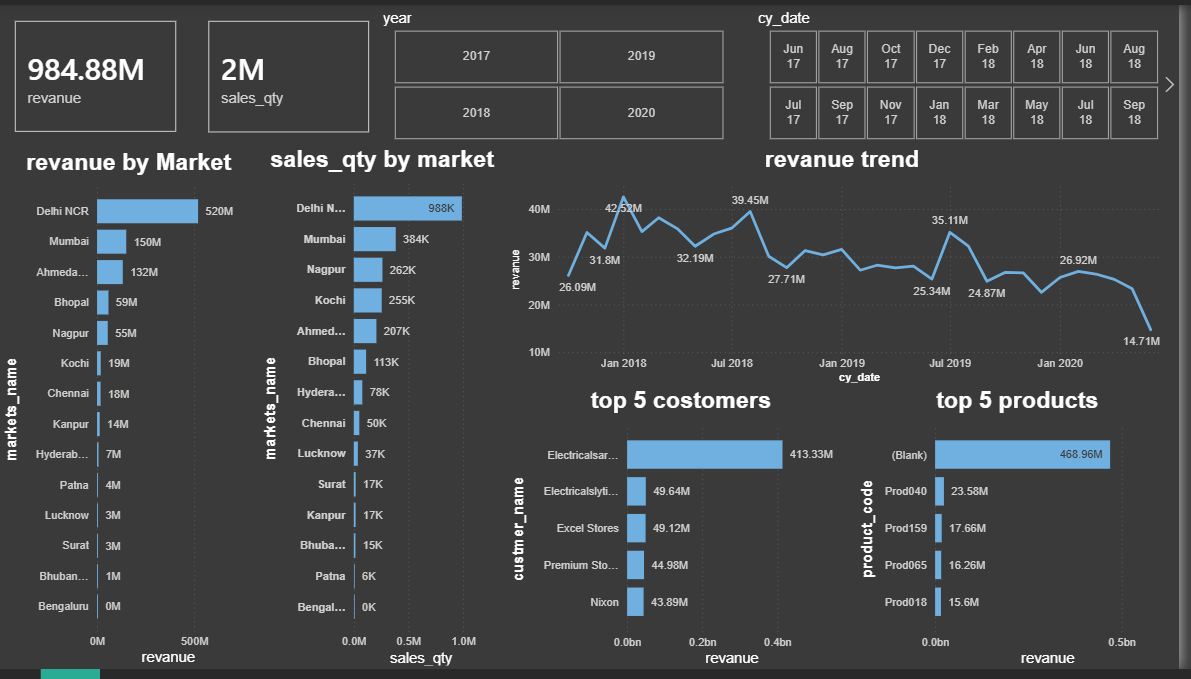

The page's visual inventory and layout, read from the dashboard file:
{"tool":"powerbi","page":{"name":"Page 1","canvas":[1280,720],"ordinal":0},"visuals":[{"type":"cardVisual","fields":{"Data":["BaseMeasure.revanue"]},"box":[0,0,209.8,155],"z":0},{"type":"cardVisual","fields":{"Data":["BaseMeasure.sales_qty"]},"box":[210.4,0,208.7,155.7],"z":1000},{"type":"barChart","title":"revanue by Market","fields":{"Y":["BaseMeasure.revanue"],"Category":["sales markets.markets_name"]},"box":[0,156.1,281.4,564.4],"z":2000},{"type":"barChart","title":"sales_qty by market","fields":{"Category":["sales markets.markets_name"],"Y":["BaseMeasure.sales_qty"]},"box":[281.6,152.4,268.3,568.2],"z":3000},{"type":"slicer","fields":{"Values":["sales date.cy_date"]},"box":[810,0,470.4,152.4],"z":4000},{"type":"slicer","fields":{"Values":["sales date.year"]},"box":[404.2,0,405.8,152.4],"z":5000},{"type":"barChart","title":"top 5 costomers","fields":{"Category":["sales customers.custmer_name"],"Y":["BaseMeasure.revanue"]},"box":[550,414.1,379.3,306.4],"z":6000},{"type":"barChart","title":"top 5 products","fields":{"Category":["sales products.product_code"],"Y":["BaseMeasure.revanue"]},"box":[929.3,414.1,351.2,306.4],"z":7000},{"type":"lineChart","title":"revanue trend","fields":{"Y":["BaseMeasure.revanue"],"Category":["sales date.cy_date"]},"box":[550,152.4,728.9,261.7],"z":8000}]}

Visuals, with their boxes in screenshot pixels (x1, y1, x2, y2), scaled from the page's 1280x720 canvas onto the 1191x679 screenshot:
cardVisual - BaseMeasure.revanue: {"left": 0, "top": 0, "right": 195, "bottom": 146}
cardVisual - BaseMeasure.sales_qty: {"left": 196, "top": 0, "right": 390, "bottom": 147}
"revanue by Market" barChart: {"left": 0, "top": 147, "right": 262, "bottom": 678}
"sales_qty by market" barChart: {"left": 262, "top": 144, "right": 512, "bottom": 678}
slicer - sales date.cy_date: {"left": 754, "top": 0, "right": 1190, "bottom": 144}
slicer - sales date.year: {"left": 376, "top": 0, "right": 754, "bottom": 144}
"top 5 costomers" barChart: {"left": 512, "top": 391, "right": 865, "bottom": 678}
"top 5 products" barChart: {"left": 865, "top": 391, "right": 1190, "bottom": 678}
"revanue trend" lineChart: {"left": 512, "top": 144, "right": 1190, "bottom": 391}
